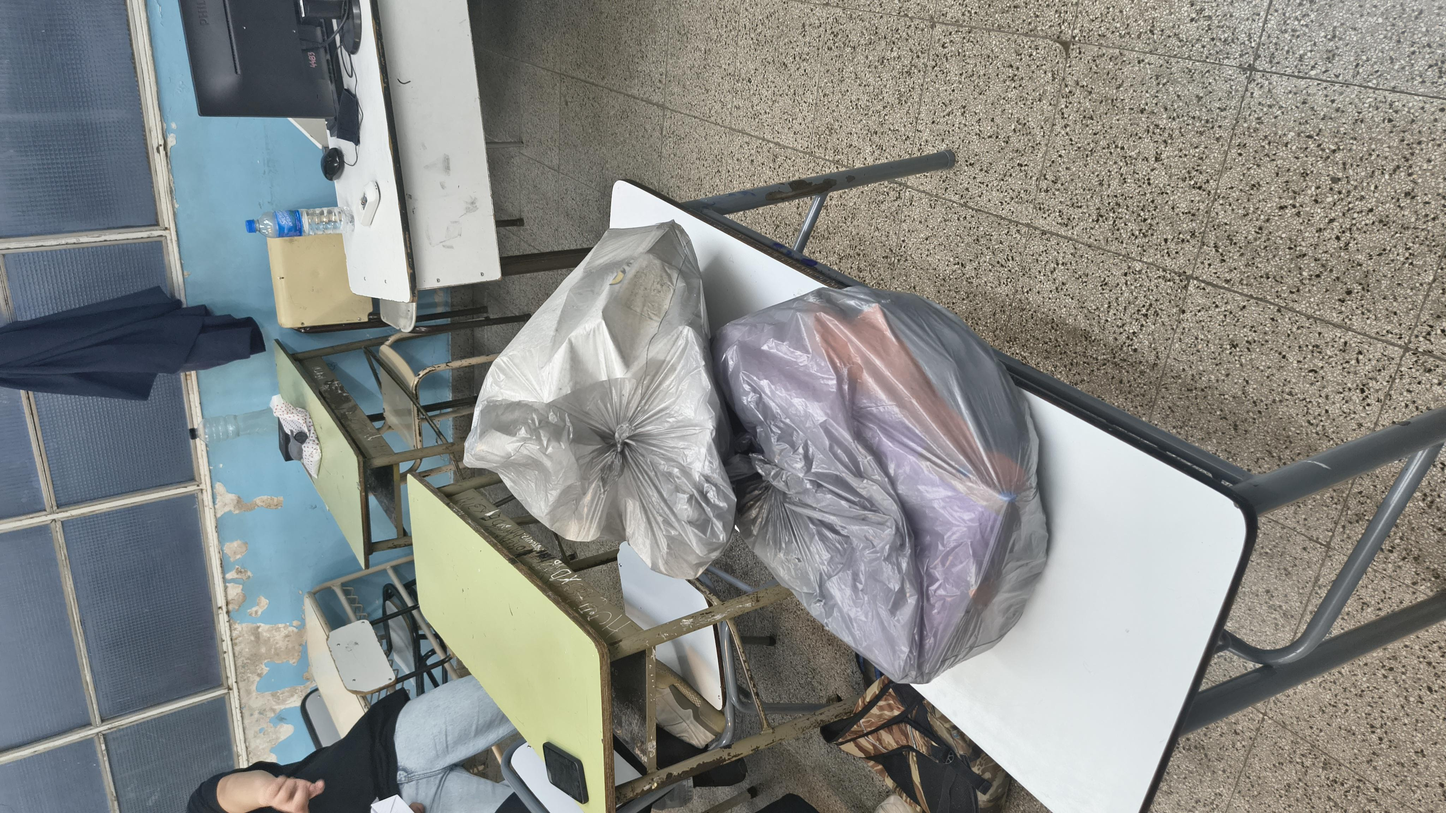Garbage: (207, 391, 998, 599), (420, 250, 1130, 429)
